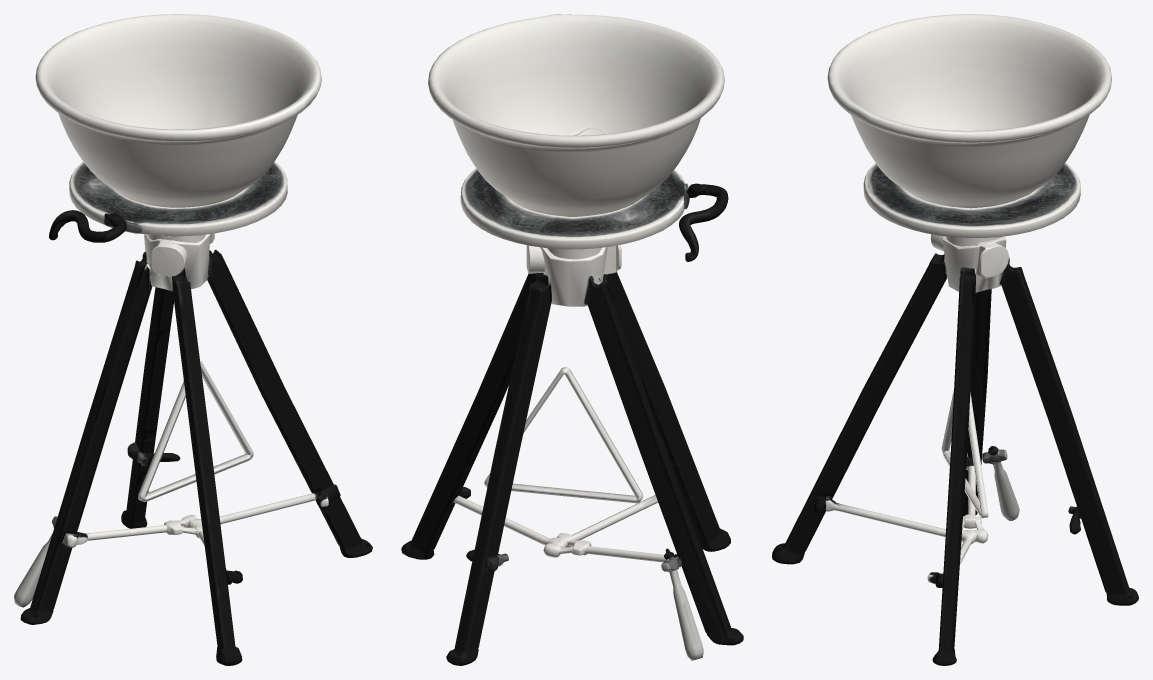
File: crucible.glb
3 views of the same model, side by side, from view 1: azimuth 30°, elevation 25°; view 2: azimuth 150°, elevation 25°; view 3: azimuth 270°, elevation 25° (orthographic). The views are drawn at different scales.
Visible parts, largest first — view 1: tripo_node_6636281b-e042-47ae-a563-bb8014c15e63; view 2: tripo_node_6636281b-e042-47ae-a563-bb8014c15e63; view 3: tripo_node_6636281b-e042-47ae-a563-bb8014c15e63.
Part boxes in pixels (x1=…): tripo_node_6636281b-e042-47ae-a563-bb8014c15e63: x1=14, y1=14, x2=372, y2=665; tripo_node_6636281b-e042-47ae-a563-bb8014c15e63: x1=401, y1=14, x2=743, y2=665; tripo_node_6636281b-e042-47ae-a563-bb8014c15e63: x1=772, y1=14, x2=1138, y2=665.
Size of the model in its own units: 0.6825 by 1 by 0.6473.
Materials: 1 (1 with a texture image).
